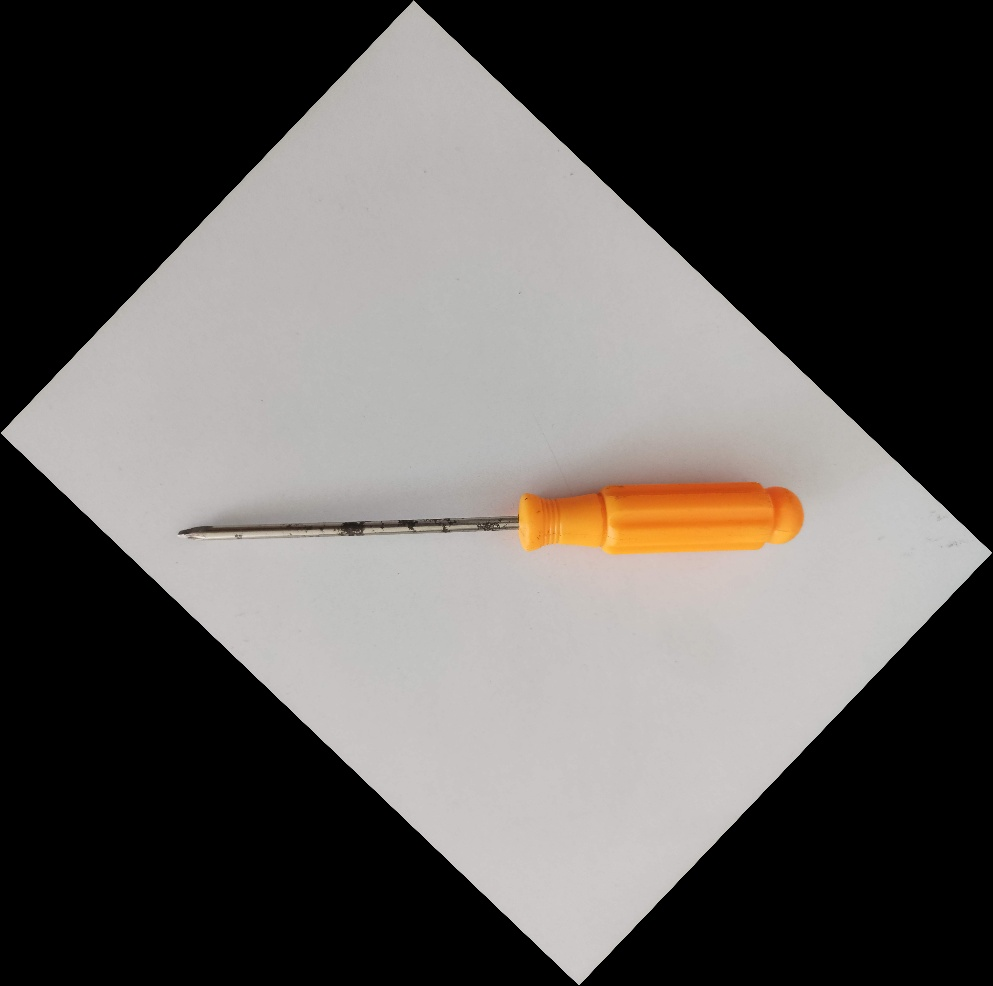screwdriver: (175, 480, 808, 556)
